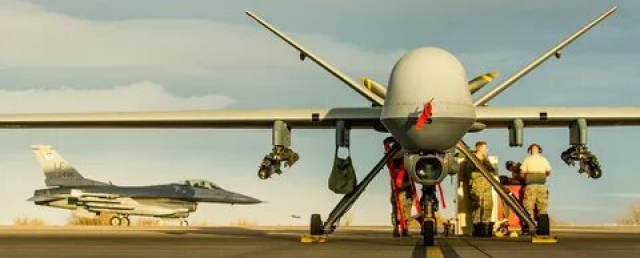airplane: (24, 144, 272, 226)
military drone: (0, 6, 640, 244)
